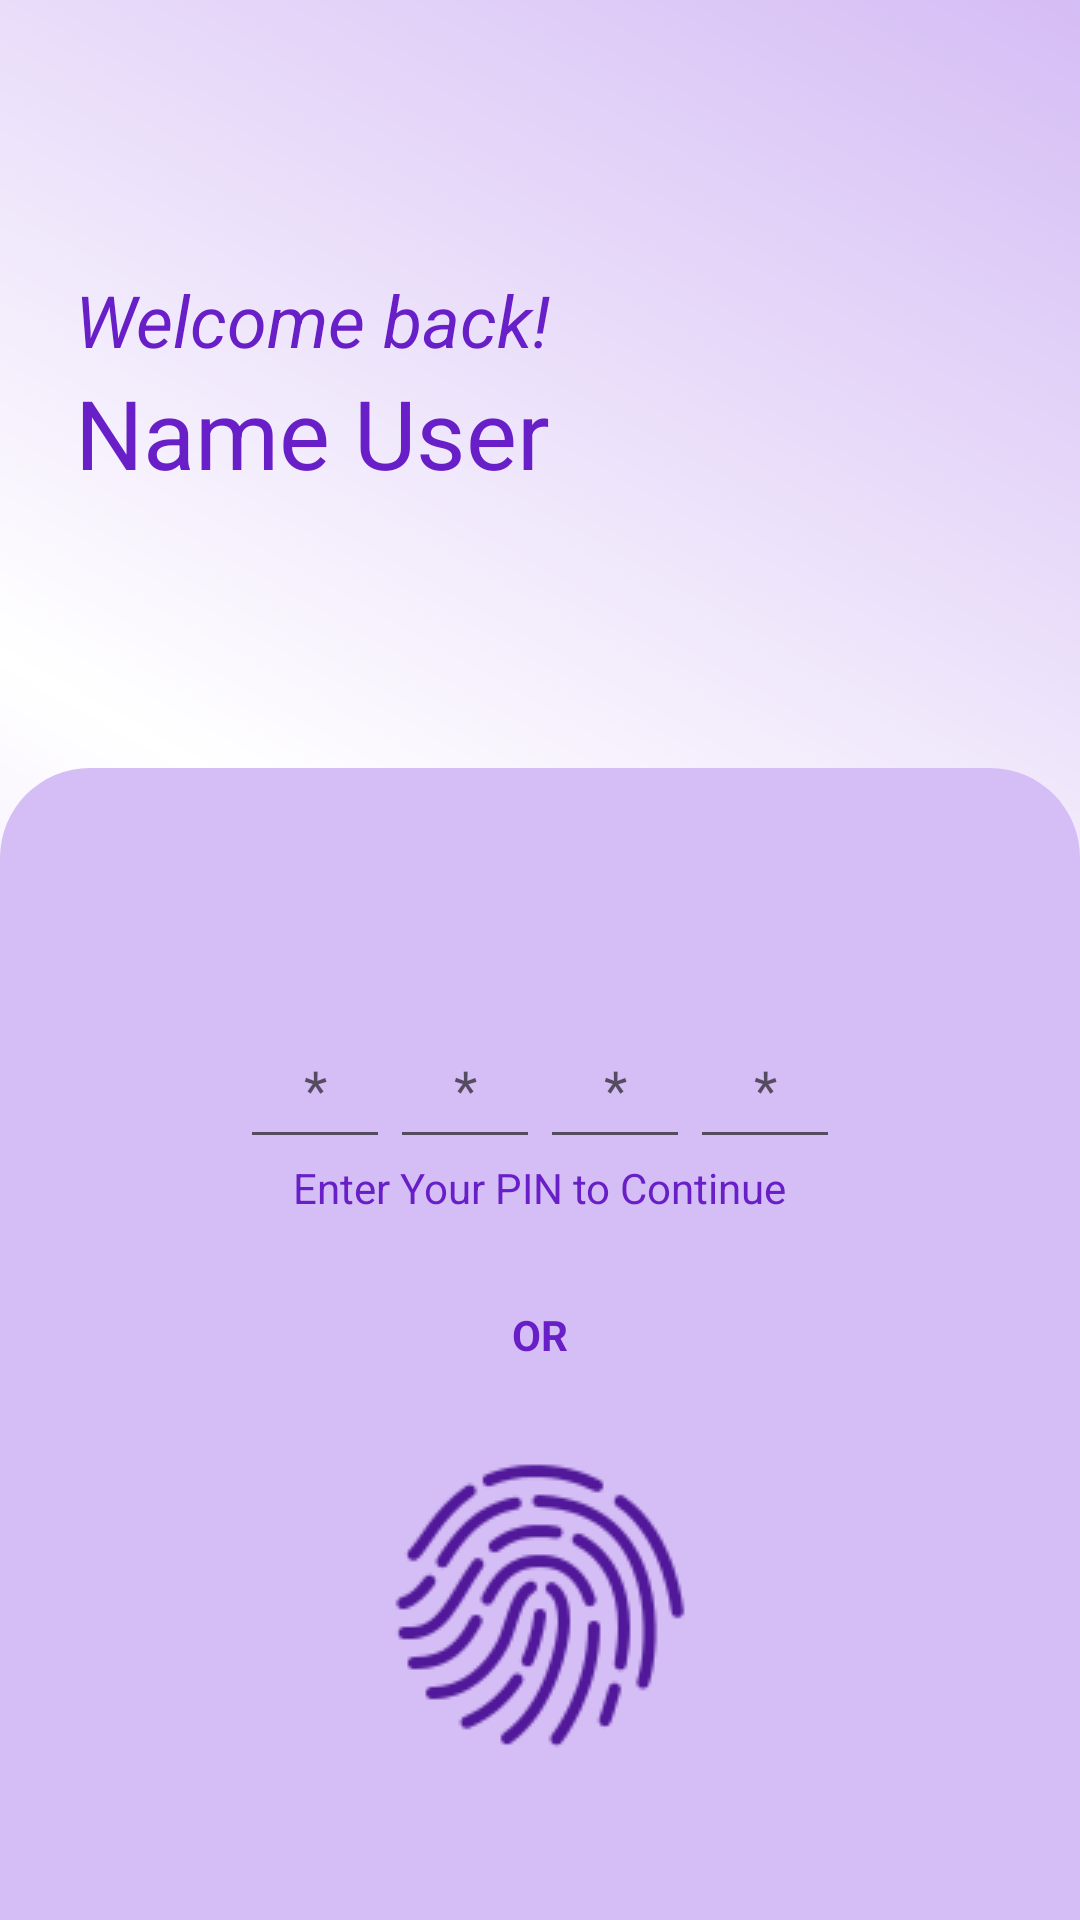

Where icons sit on this 1080px×1920px app screen, as (x1=x1, y1=y1, x2=x2, y2=y2):
fingerprintnormal: (x1=395, y1=1464, x2=685, y2=1747)
